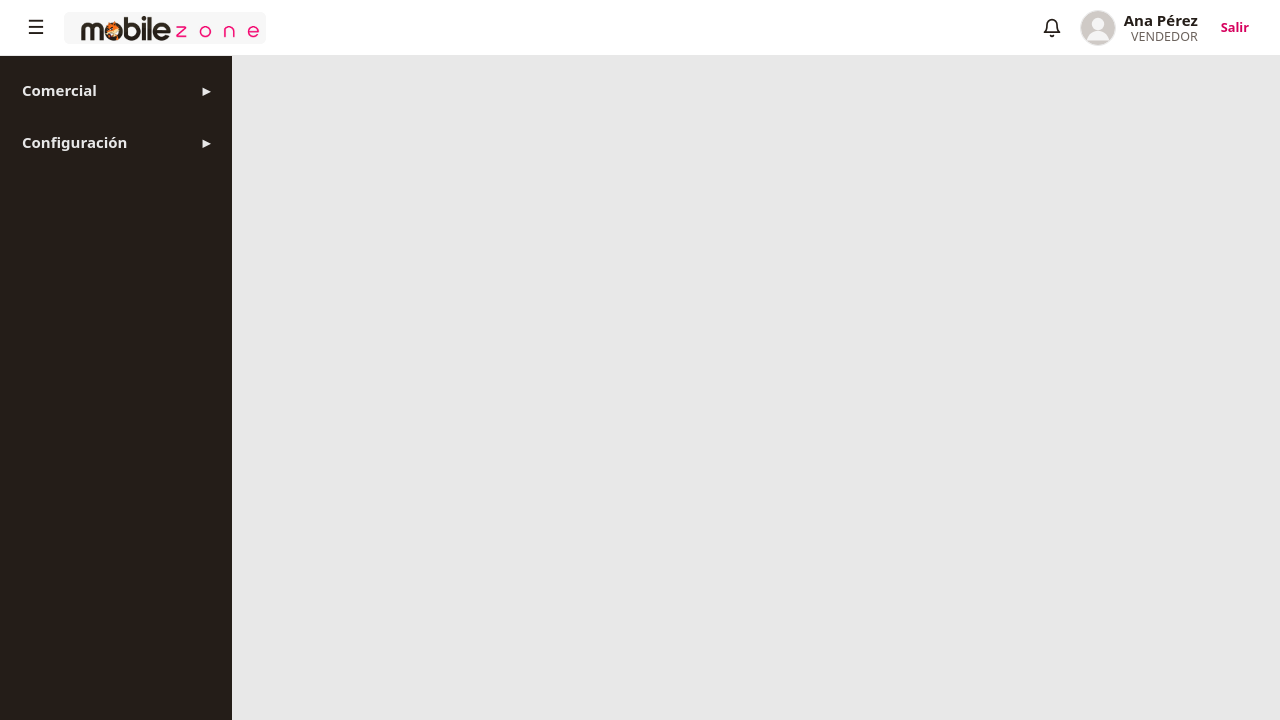
Test: MainLayout menu › Comercial and Configuración are trees that open and close; the profile is in the header
Expected: the link "Marcas" is not shown
Click the button "Comercial ▸": {"x": 116, "y": 91} left=10, top=72, right=222, bottom=110
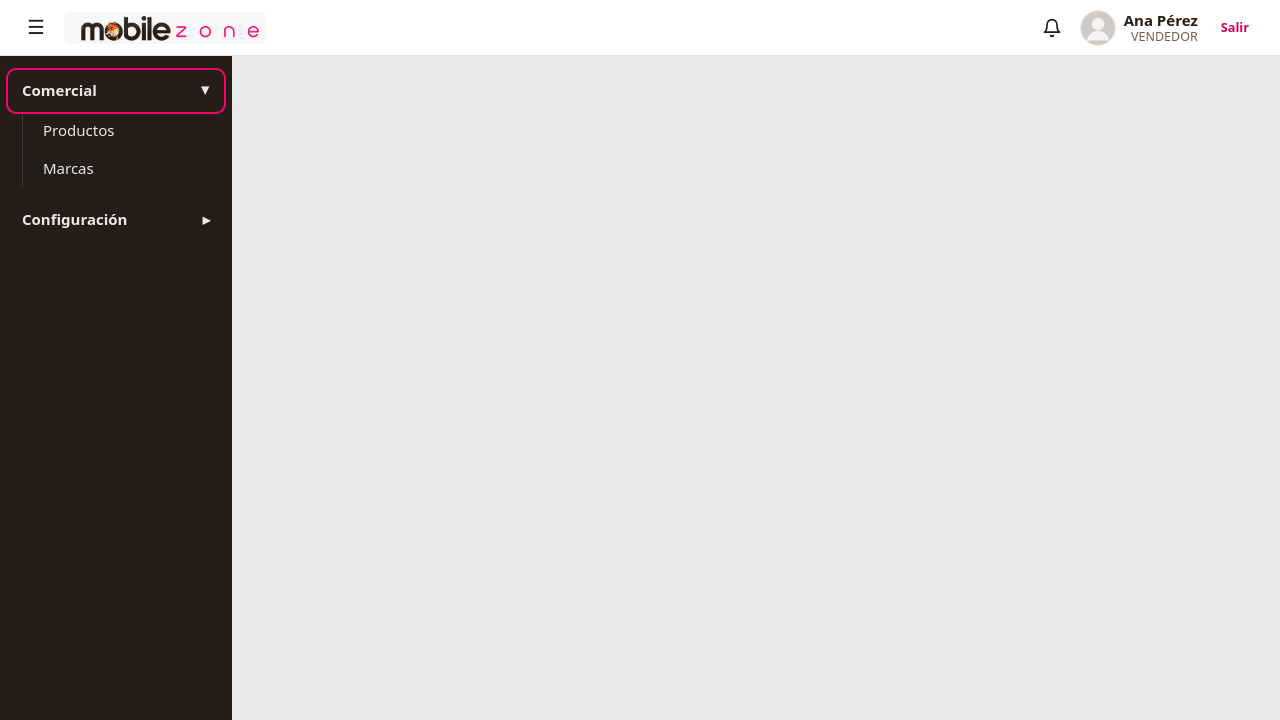
Expected: the button "Configuración ▸" is shown, left=10, top=201, right=222, bottom=239
Result: the button "Comercial ▸" is expanded at left=10, top=72, right=222, bottom=110
